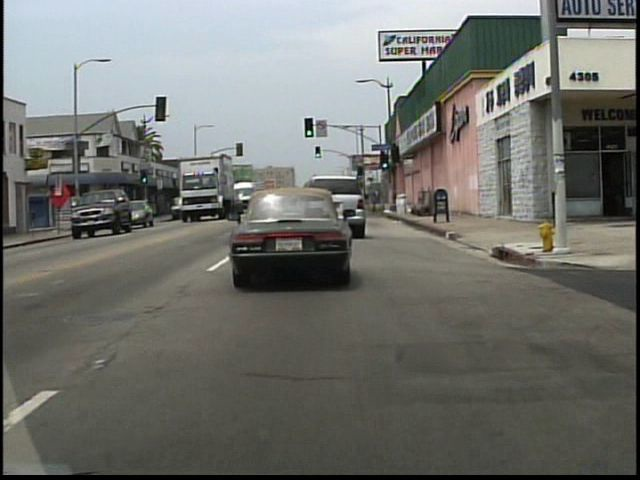person: (79, 204, 90, 228)
